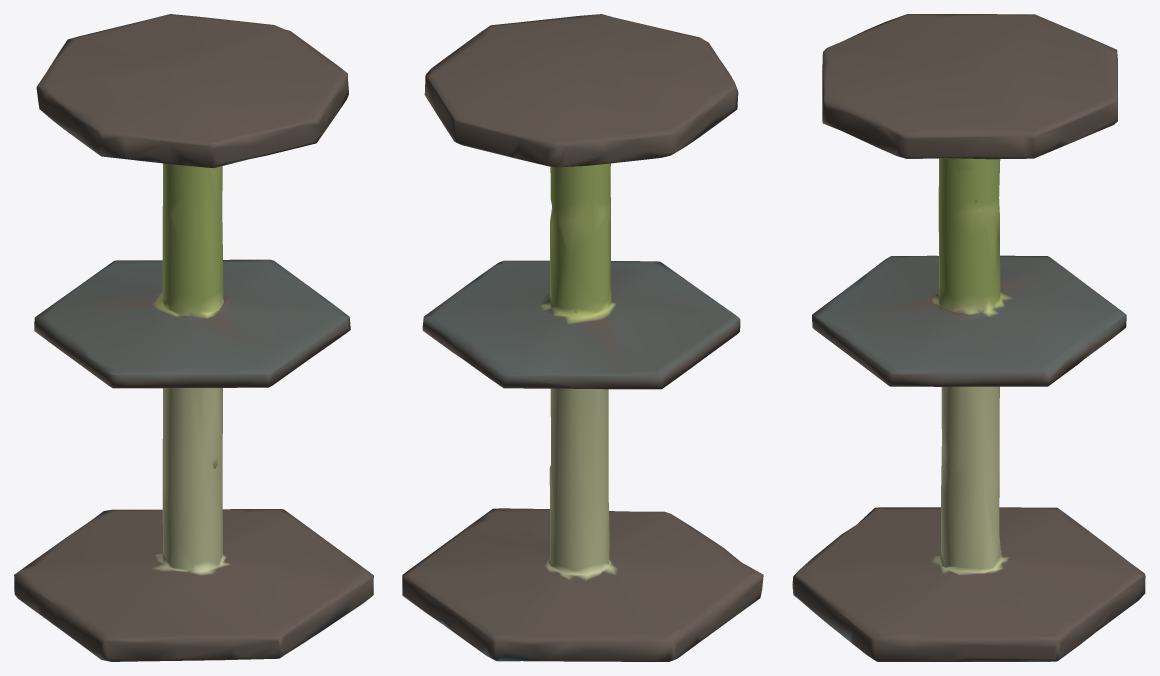
The model's file is gen3d-cat-tree-lod0.glb.
The picture shows the model from 3 angles, left to right: view 1: azimuth 30°, elevation 25°; view 2: azimuth 150°, elevation 25°; view 3: azimuth 270°, elevation 25°; orthographic projection.
Parts seen in each view (by area): view 1: part_0; view 2: part_0; view 3: part_0.
Boxes of the visible parts, box(x1,y1,x2,y2) form: part_0: box(14, 14, 373, 661); part_0: box(402, 14, 763, 661); part_0: box(792, 14, 1145, 661).
Size of the model in its own units: 0.5161 by 0.9987 by 0.5767.
